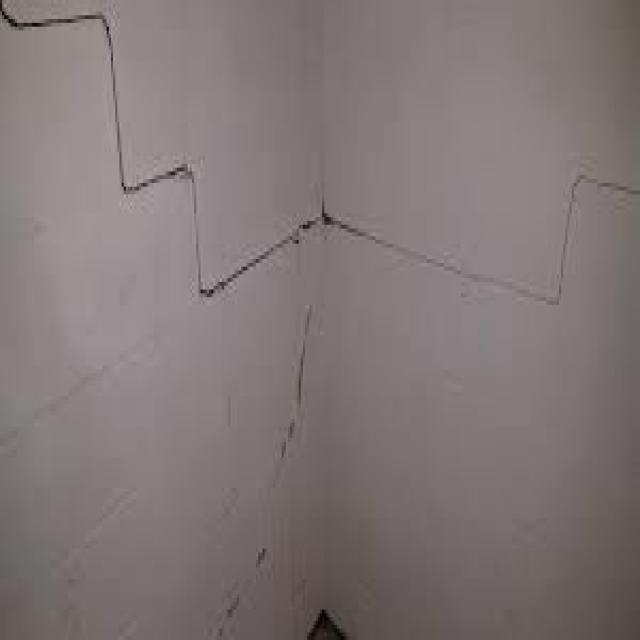Crack: (0, 0, 318, 309), (320, 168, 638, 324)
